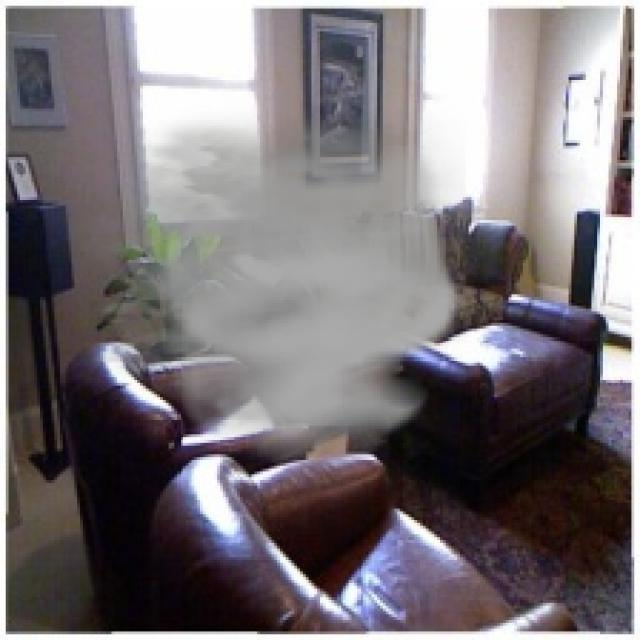Smoke: (51, 97, 466, 466)
